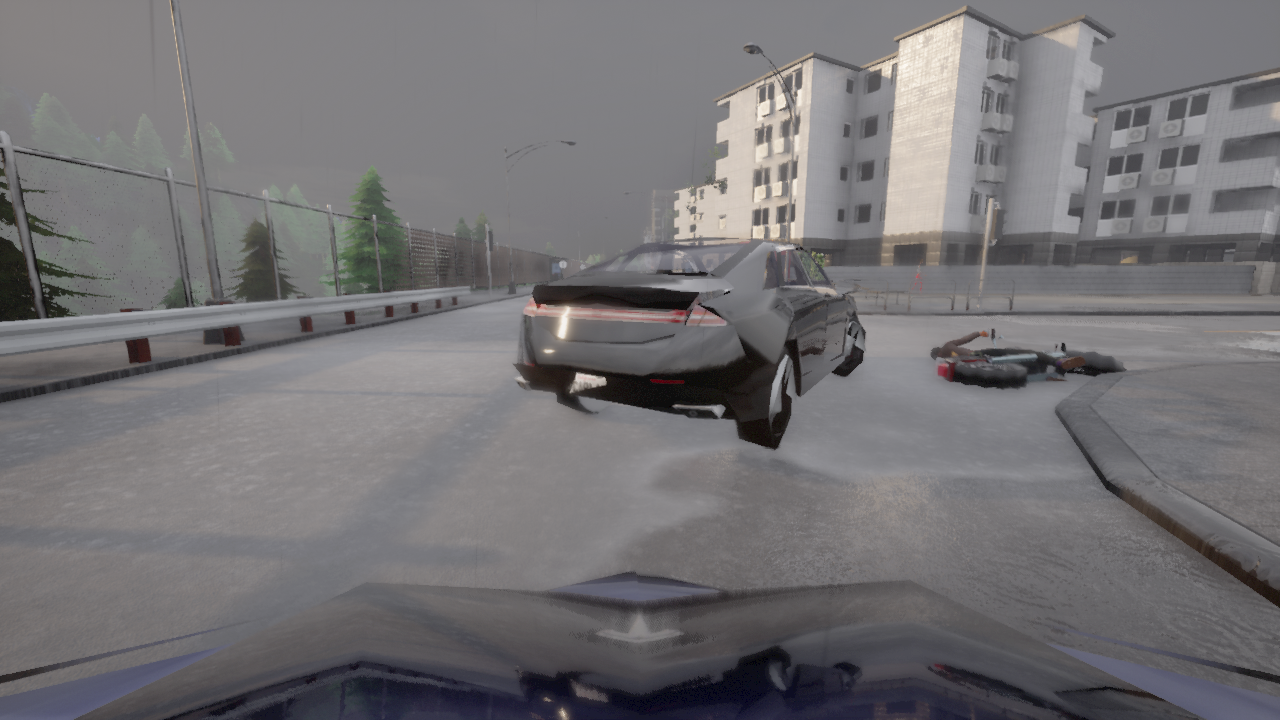cyclist: (0, 569, 1279, 719), (512, 237, 866, 452), (934, 328, 1126, 388)
pedestrian: (910, 258, 926, 295)
